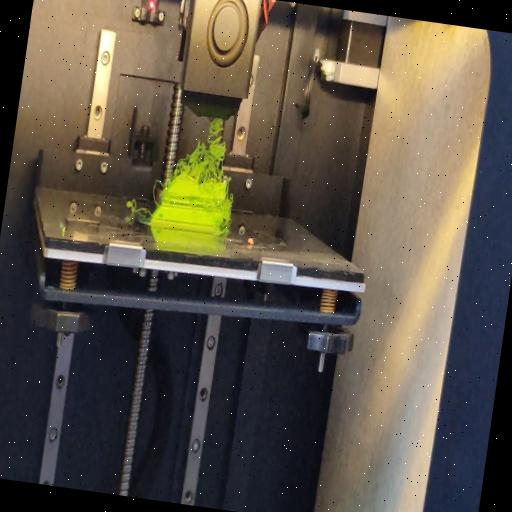spaghetti: (174, 106, 232, 185), (123, 194, 150, 219), (149, 177, 164, 206), (218, 226, 230, 241)
